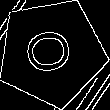O_E: (22, 27, 81, 78)
